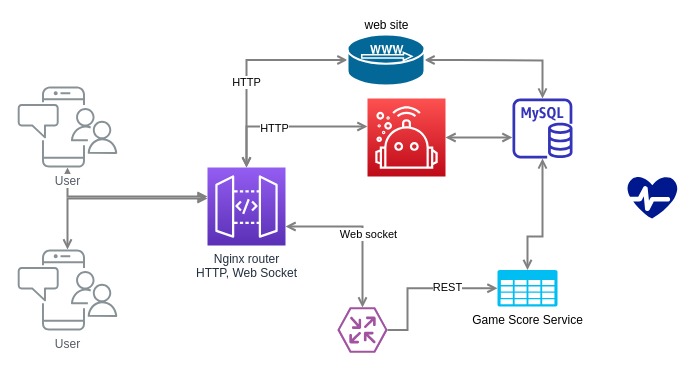
The diagram is 697 pixels wide and 390 high, and some of its shapes have lost their labels. Each missing label, with the centre of its shape:
Chat bot server: the point at 406,137
Monitoring: the point at 652,197
Web Socket Server: the point at 362,329
